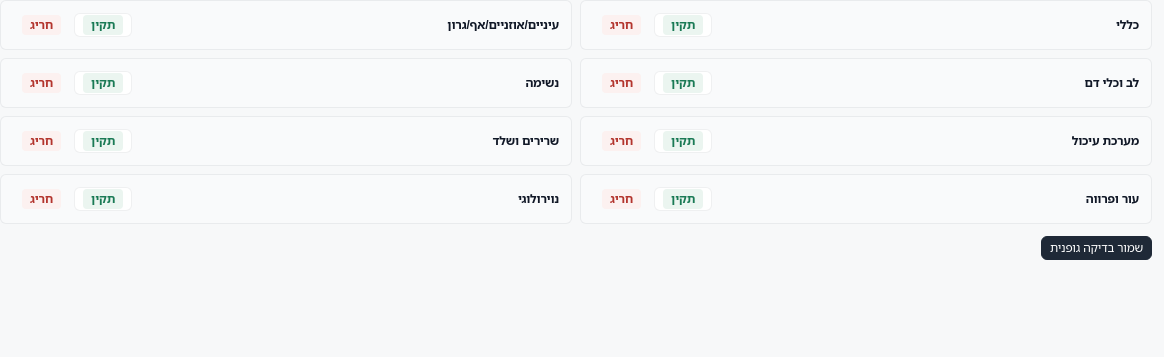
ExamForm › marking a system חריג reveals a note field for it only
Click the button "חריג" in the row of "כללי" at (622, 25), box [593,13,650,37]
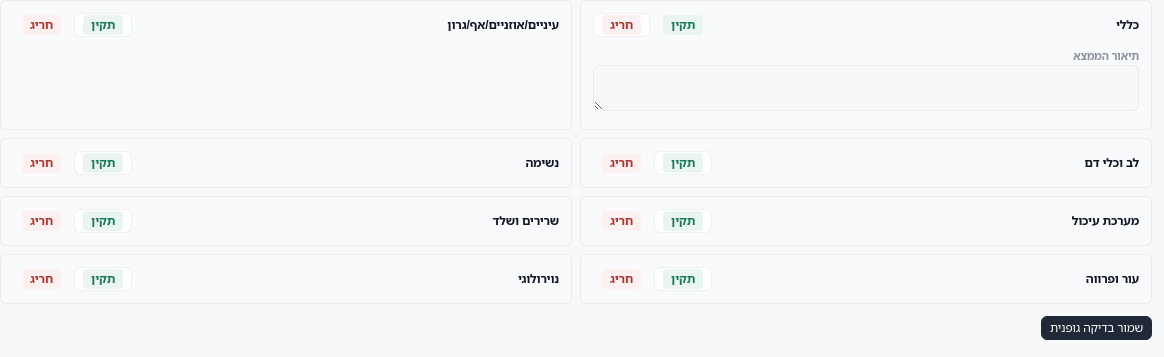
Now the text "תיאור הממצא" is shown once, box [1073,48,1139,63]
